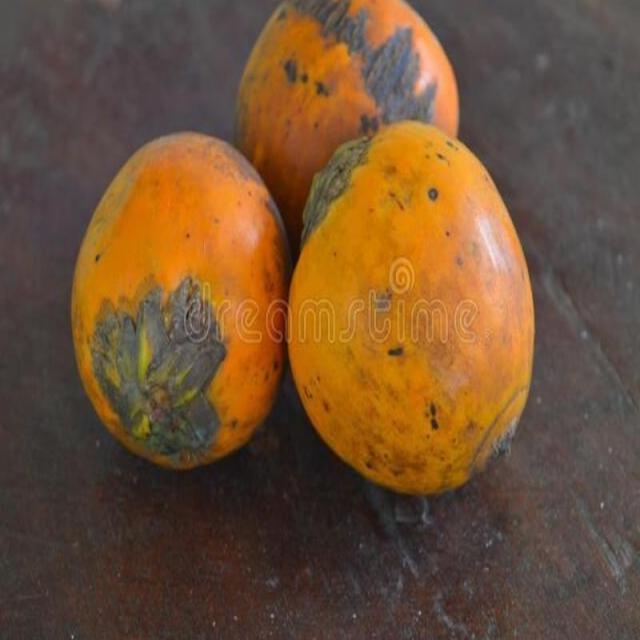good: (286, 122, 534, 499), (70, 134, 295, 474), (232, 0, 459, 251)
